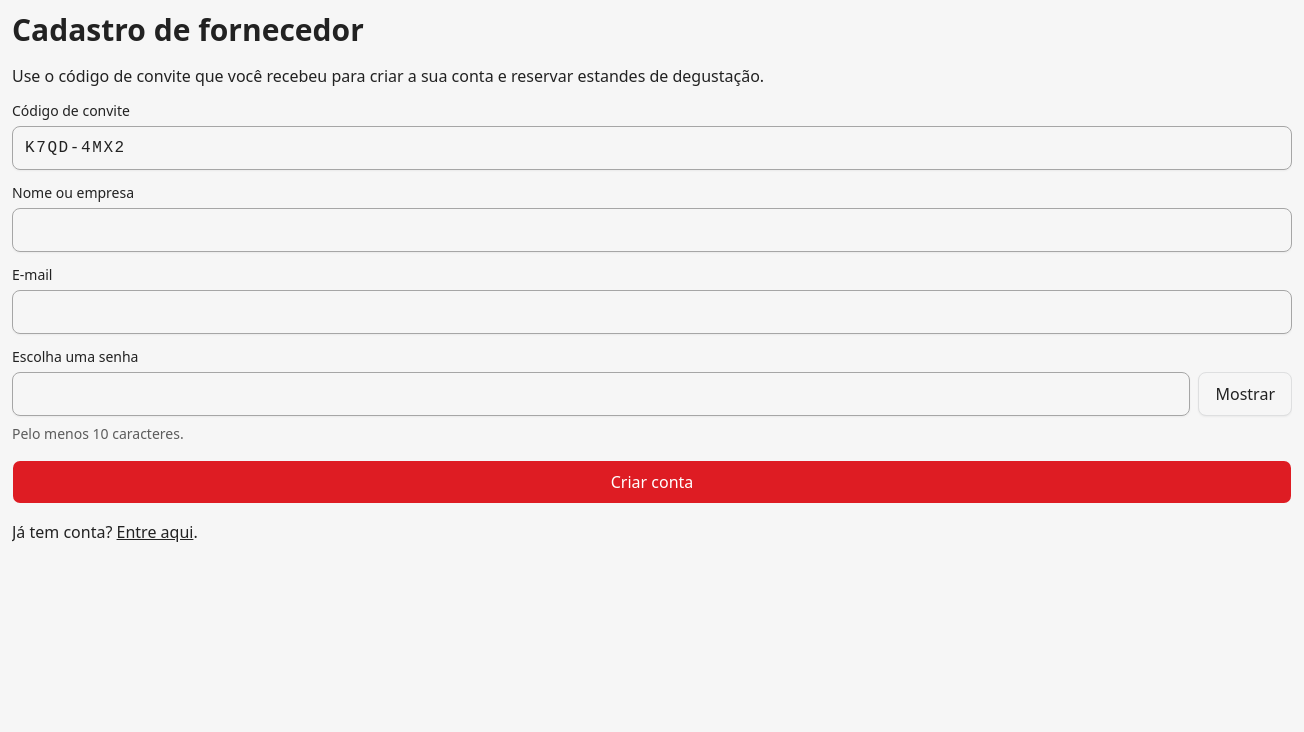
cadastro com código › e-mail que já tem conta
Type "Loja Nova" into the field labelled "Nome ou empresa". click: point(652, 230)
box: [12,208,1292,252]
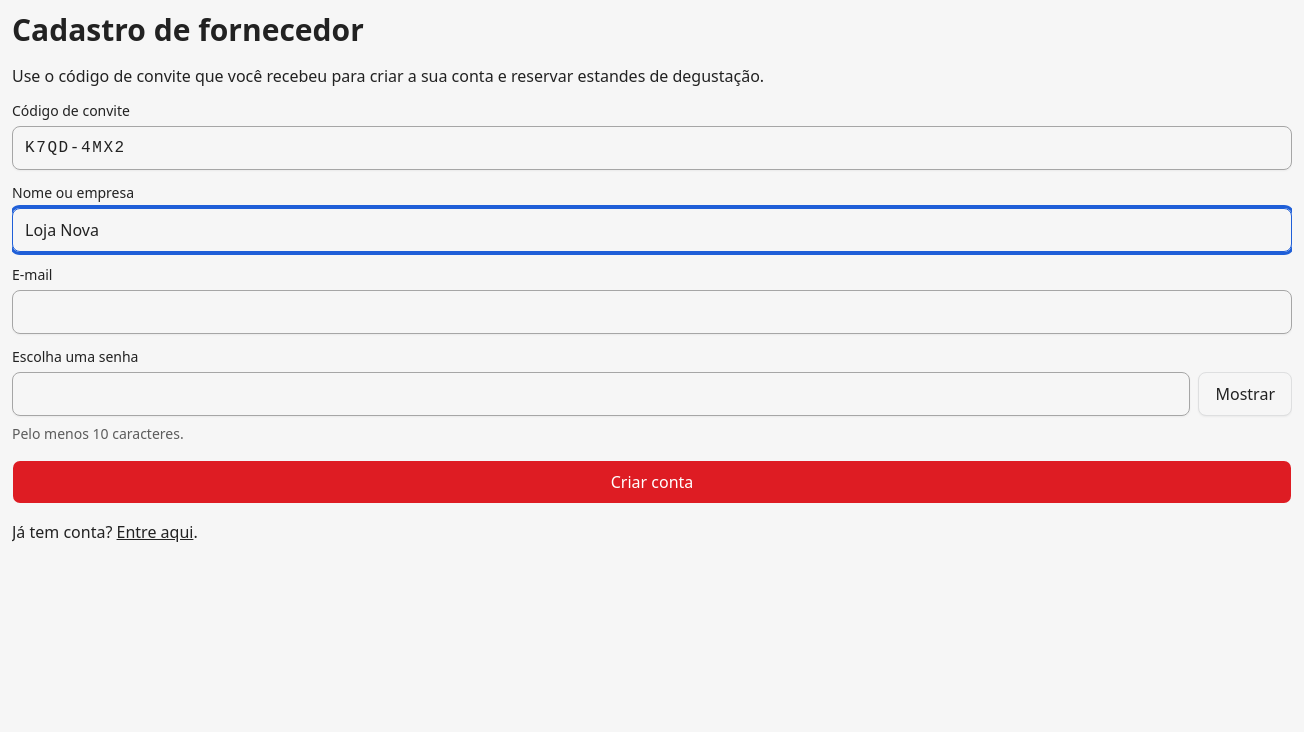
Type "u-ana@loja.com" into the field labelled "E-mail". click: point(652, 312)
box: [12,290,1292,334]
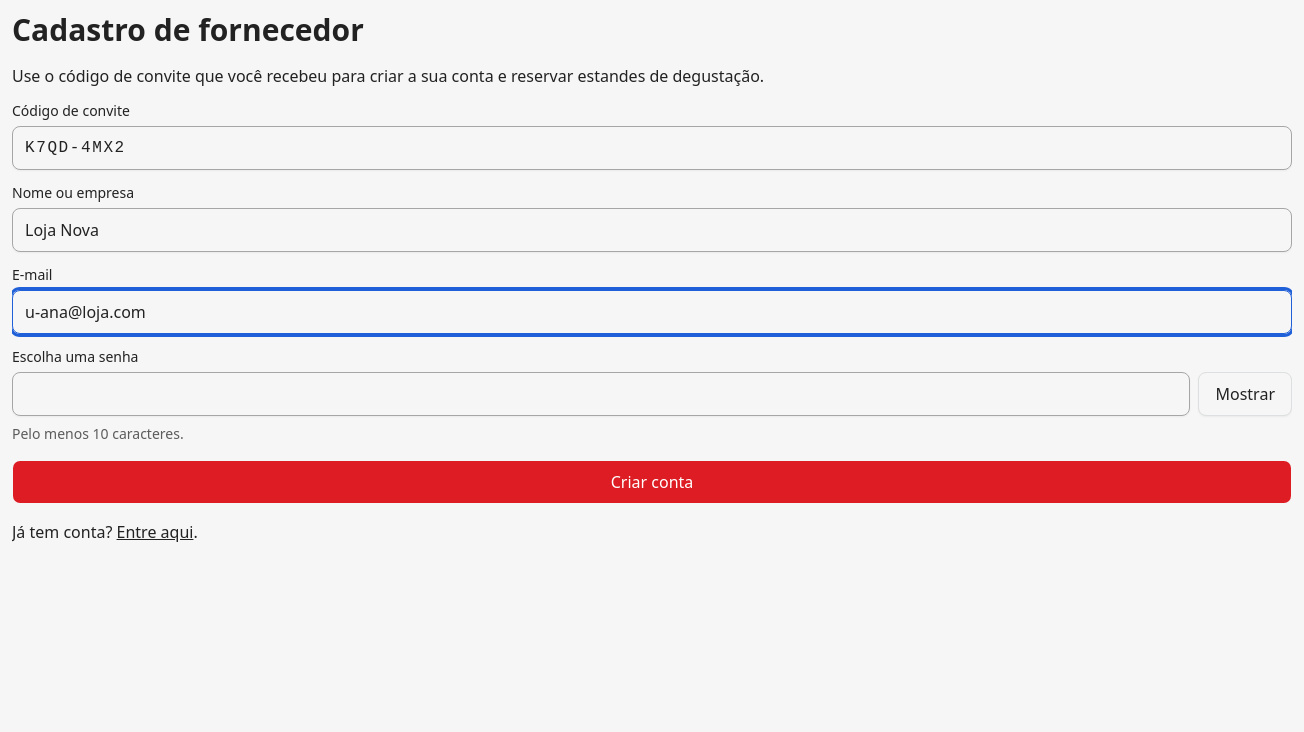
Type "uma-senha-bem-longa" into the password field labelled "Escolha uma senha". click: point(601, 394)
box: [12,372,1190,416]
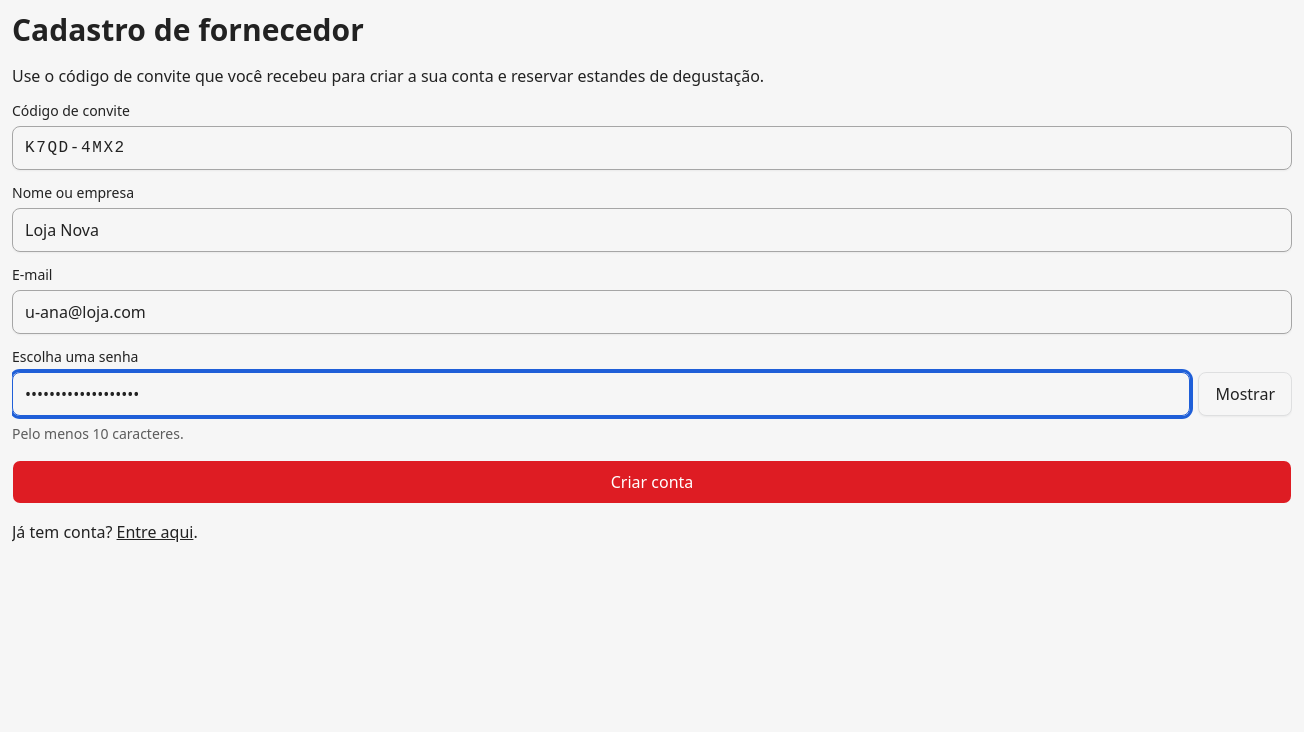
Click the button "Criar conta". click: point(652, 482)
box: [12,460,1292,504]
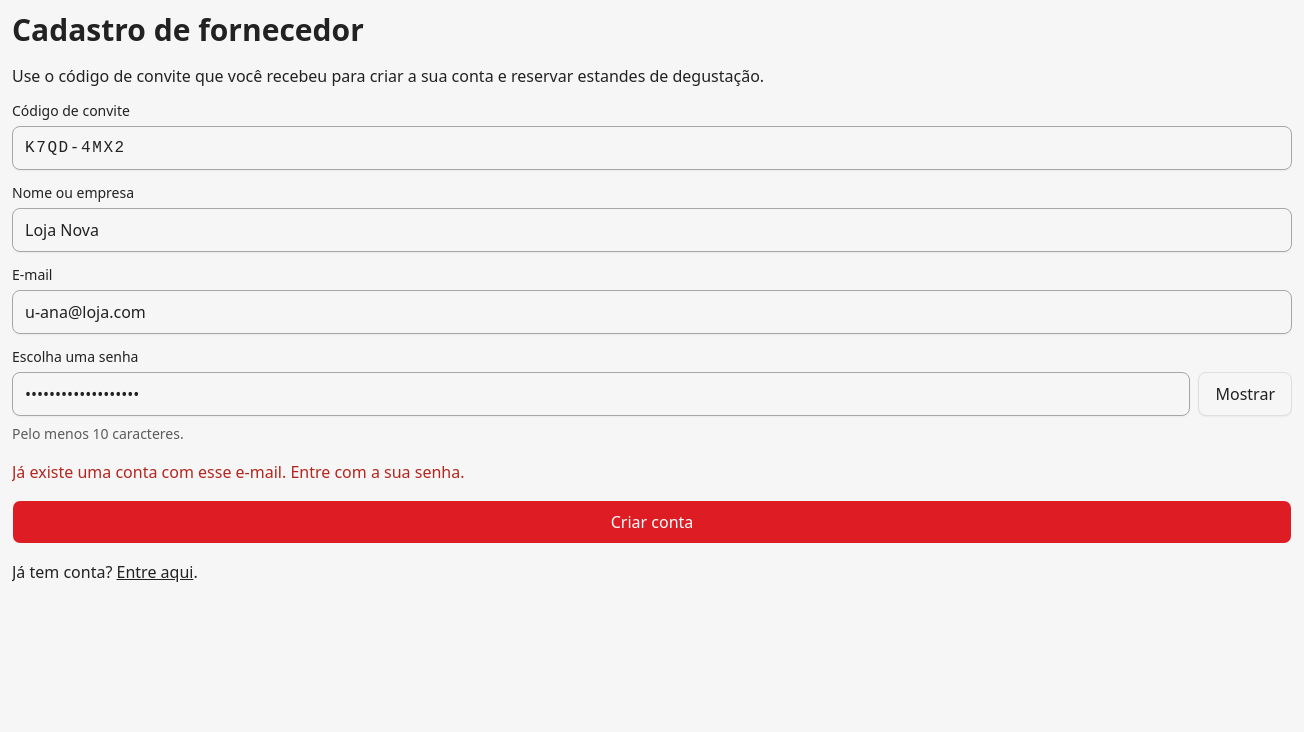
Check: the message shows "Já existe uma conta com esse e-mail", box [12,461,464,483]
